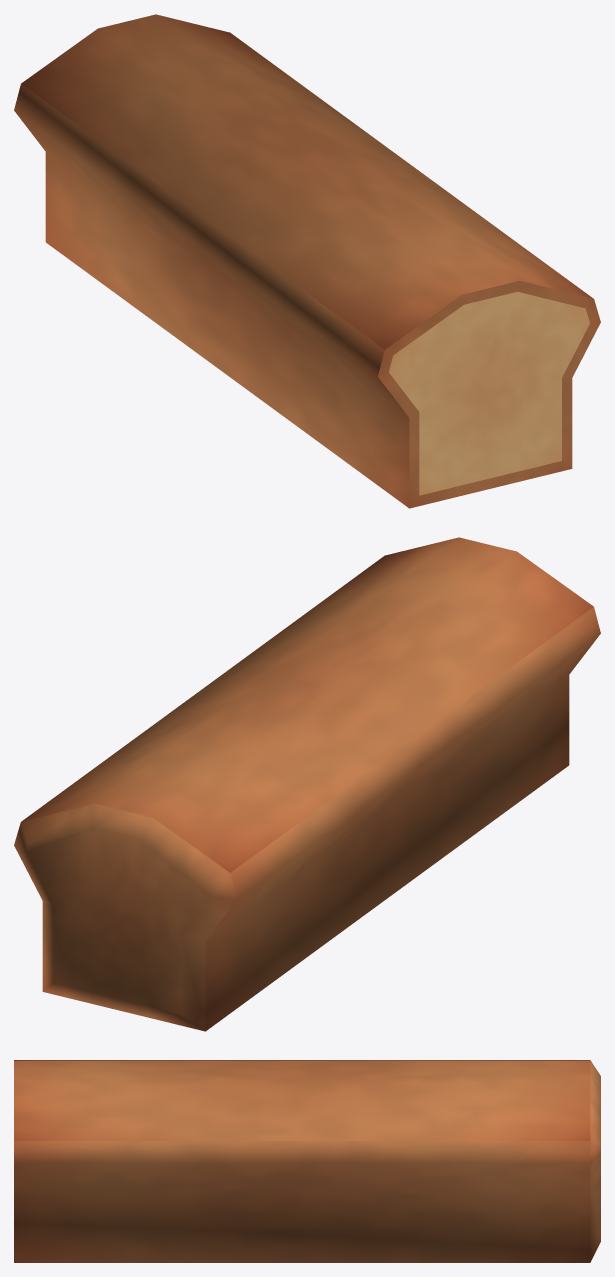
The model's file is Loaf of bread_C.FBX.
3 renders of one model, top to bottom at view 1: azimuth 30°, elevation 25°; view 2: azimuth 150°, elevation 25°; view 3: azimuth 270°, elevation 25°, orthographic. The views are drawn at different scales.
Parts seen in each view (by area): view 1: Loaf_Of_Bread_C; view 2: Loaf_Of_Bread_C; view 3: Loaf_Of_Bread_C.
Part boxes in pixels (bbox=[...]): Loaf_Of_Bread_C: bbox=[14, 14, 600, 508]; Loaf_Of_Bread_C: bbox=[14, 537, 600, 1031]; Loaf_Of_Bread_C: bbox=[14, 1060, 600, 1262].
Size of the model in its own units: 66.69 by 57.4 by 192.
